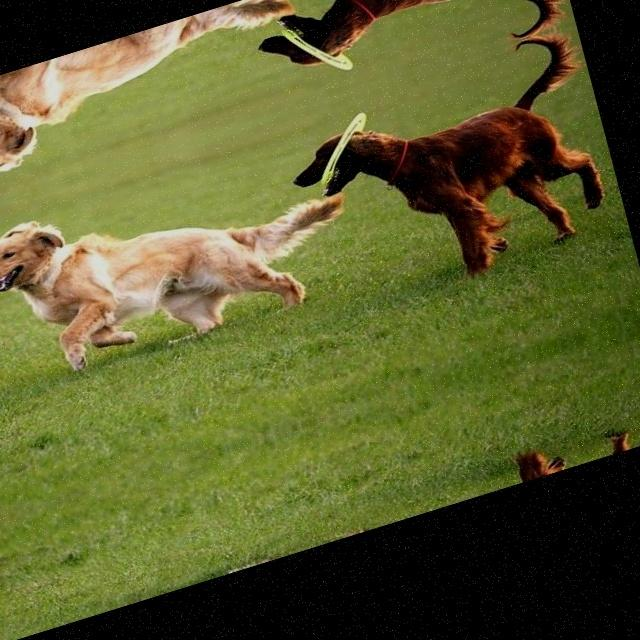dog: (0, 139, 321, 401), (0, 0, 266, 192), (60, 519, 379, 626)
